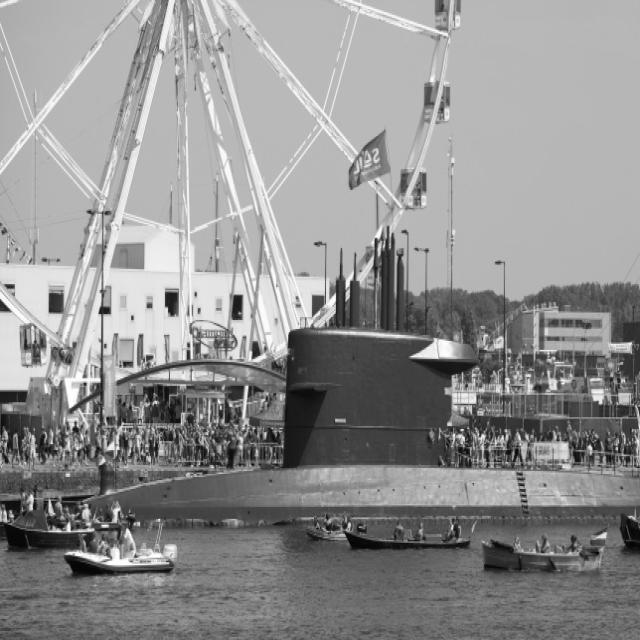submarine: (68, 205, 640, 524)
